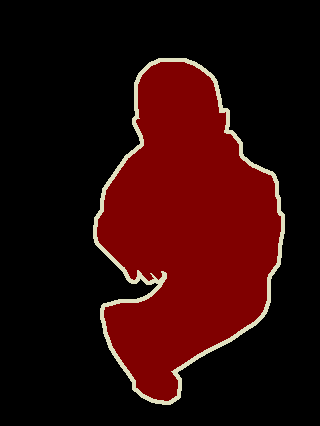person: (79, 60, 282, 402)
person/foot: (134, 348, 179, 403), (150, 329, 184, 372)
person/hand: (219, 258, 270, 310), (127, 241, 165, 284)
person/head: (136, 61, 228, 175)
